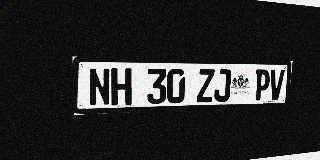0: (166, 69, 185, 104)
3: (147, 68, 167, 104)
H: (111, 68, 132, 106)
J: (214, 69, 231, 102)
N: (88, 68, 110, 106)
P: (254, 69, 271, 101)
V: (268, 70, 285, 100)
Z: (197, 69, 215, 103)
